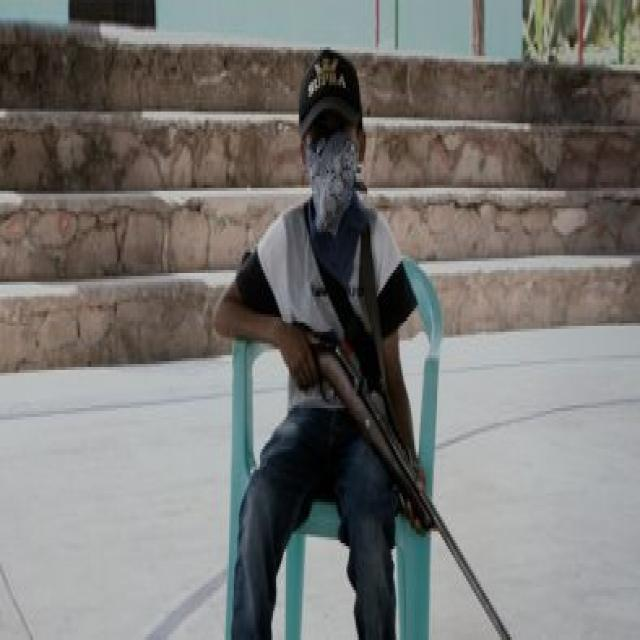weapon: (292, 317, 512, 640)
